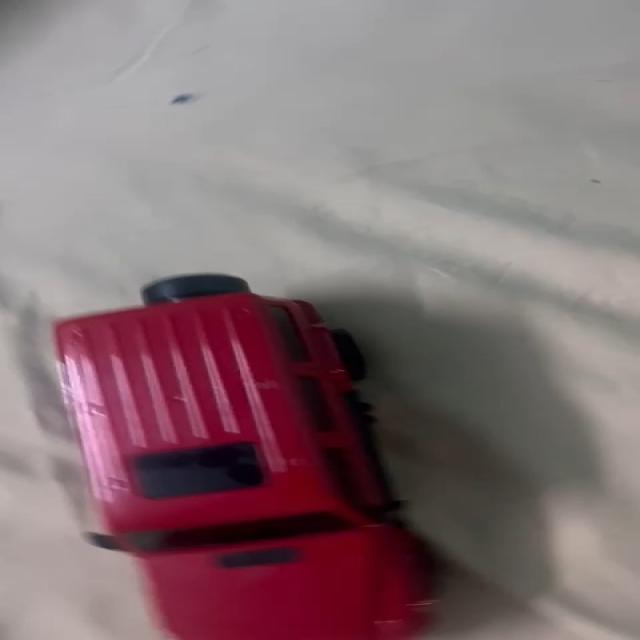light_vehicle: (34, 275, 455, 640)
